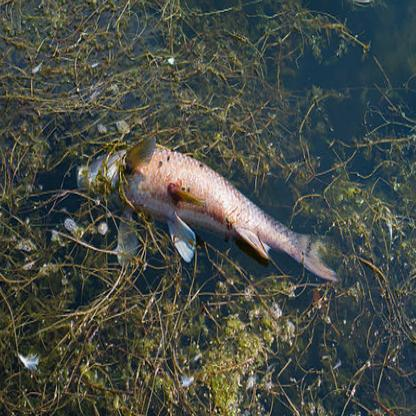deceased fish: (74, 143, 344, 282)
